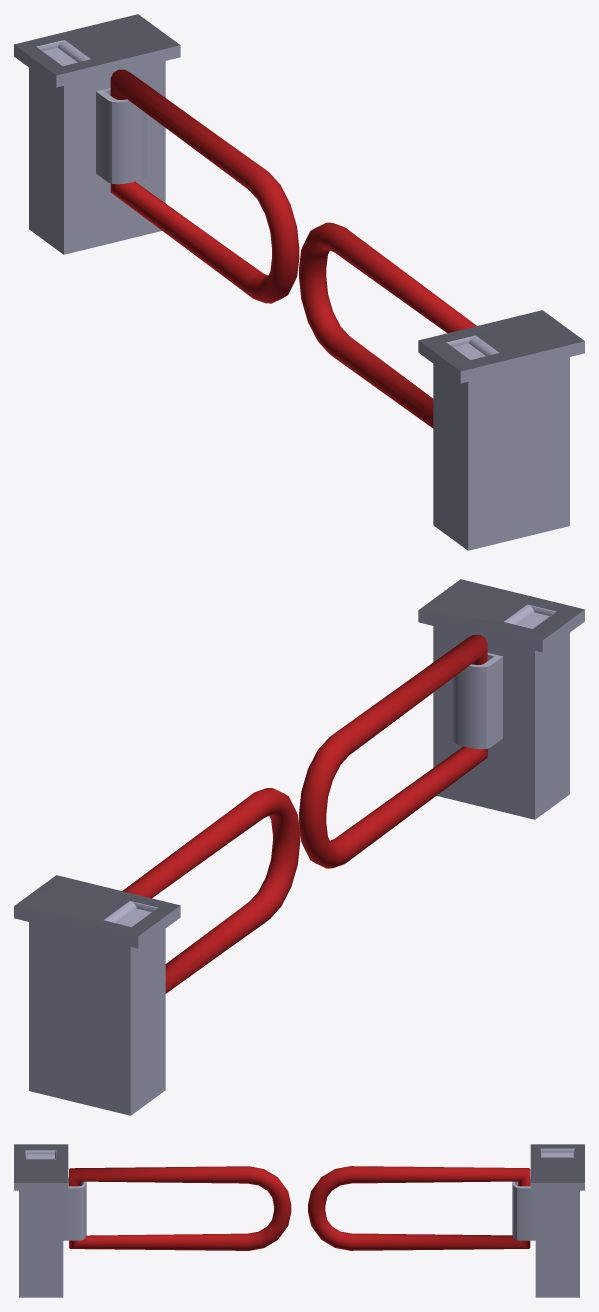
Rendered from Barrier1.4.fbx.
3 views of the same model, one above another, from view 1: azimuth 30°, elevation 25°; view 2: azimuth 150°, elevation 25°; view 3: azimuth 270°, elevation 25° (orthographic). The views are drawn at different scales.
Visible parts, largest first — view 1: Right, Left, LeftDoor, RightDoor; view 2: Left, Right, RightDoor, LeftDoor; view 3: Left, Right, LeftDoor, RightDoor.
Boxes of the visible parts, left/top/right/bottom form: Right: left=418, top=310, right=584, bottom=550; Left: left=14, top=14, right=180, bottom=254; LeftDoor: left=110, top=69, right=299, bottom=303; RightDoor: left=299, top=222, right=476, bottom=428; Left: left=14, top=875, right=180, bottom=1115; Right: left=418, top=579, right=584, bottom=819; RightDoor: left=299, top=634, right=487, bottom=868; LeftDoor: left=122, top=788, right=300, bottom=993; Left: left=512, top=1144, right=584, bottom=1297; Right: left=14, top=1144, right=86, bottom=1297; LeftDoor: left=308, top=1166, right=530, bottom=1250; RightDoor: left=69, top=1166, right=291, bottom=1250.
Bounding box in the file's own units: 62.94 × 89.53 × 392.
2 materials, 1 textured.
